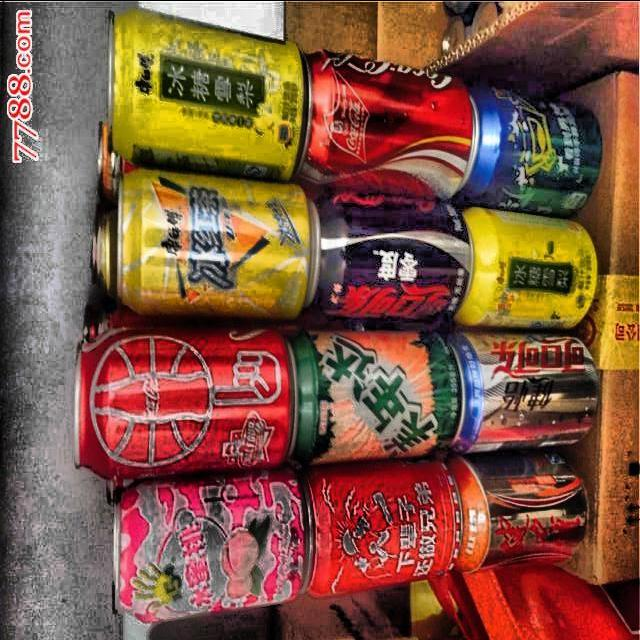litter: (99, 0, 307, 181), (66, 319, 284, 478), (101, 458, 301, 625), (109, 167, 309, 323), (283, 42, 475, 196), (284, 324, 462, 467), (283, 460, 458, 602), (286, 189, 466, 324), (449, 331, 600, 454), (451, 208, 598, 329), (446, 450, 589, 573), (466, 86, 599, 214), (74, 202, 109, 291), (87, 111, 119, 201)
